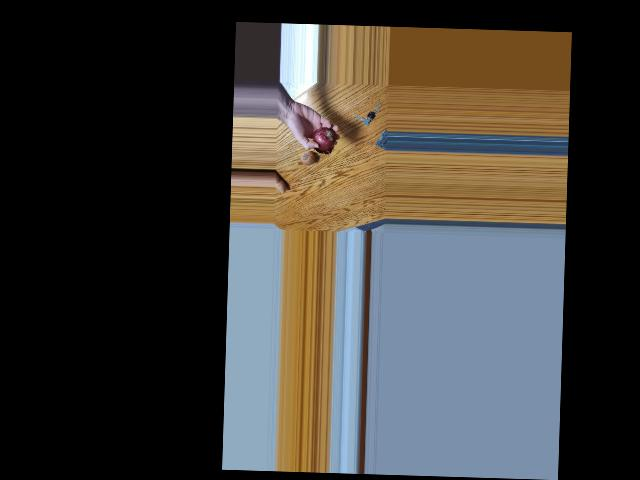onion: (313, 126, 336, 149)
